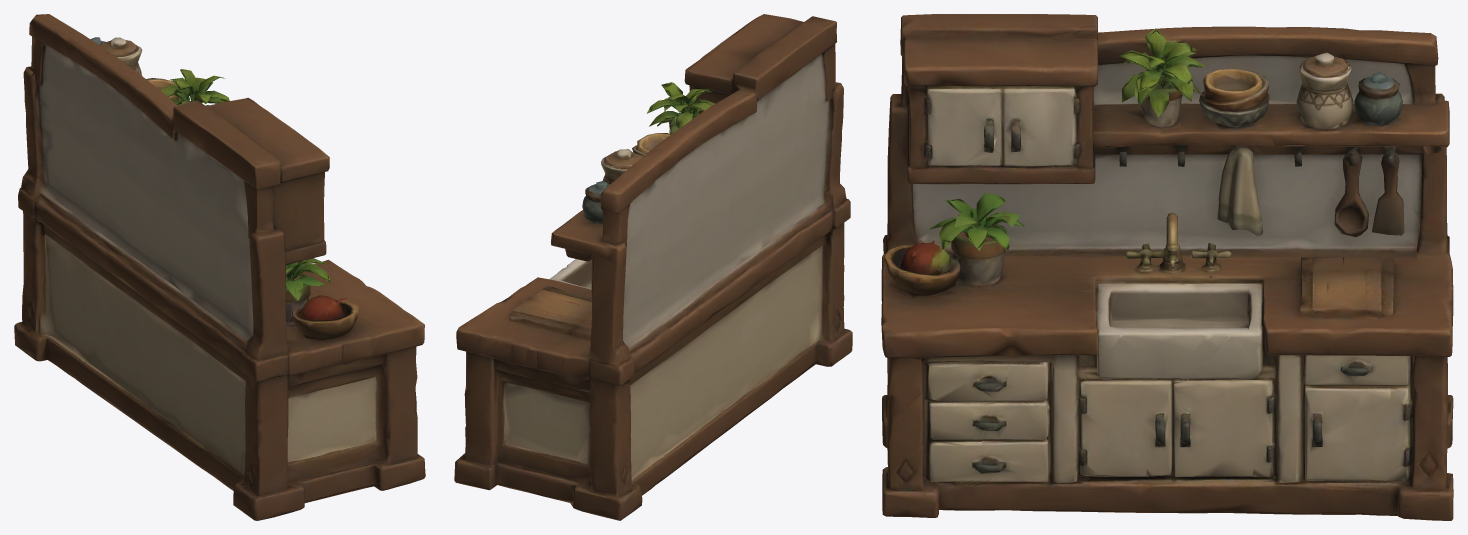
The model's file is mesada.glb.
The picture shows the model from 3 angles, left to right: view 1: azimuth 30°, elevation 25°; view 2: azimuth 150°, elevation 25°; view 3: azimuth 270°, elevation 25°; orthographic projection. The views are drawn at different scales.
Parts seen in each view (by area): view 1: tripo_node_0f5785c2-e3f2-4886-b40b-71a855e9a6a0; view 2: tripo_node_0f5785c2-e3f2-4886-b40b-71a855e9a6a0; view 3: tripo_node_0f5785c2-e3f2-4886-b40b-71a855e9a6a0.
Boxes of the visible parts, <box> form: tripo_node_0f5785c2-e3f2-4886-b40b-71a855e9a6a0: <box>14,14,425,520</box>; tripo_node_0f5785c2-e3f2-4886-b40b-71a855e9a6a0: <box>454,14,852,520</box>; tripo_node_0f5785c2-e3f2-4886-b40b-71a855e9a6a0: <box>881,14,1453,520</box>.
Size of the model in its own units: 0.4159 by 0.8 by 1.
Materials: 1 (1 with a texture image).
